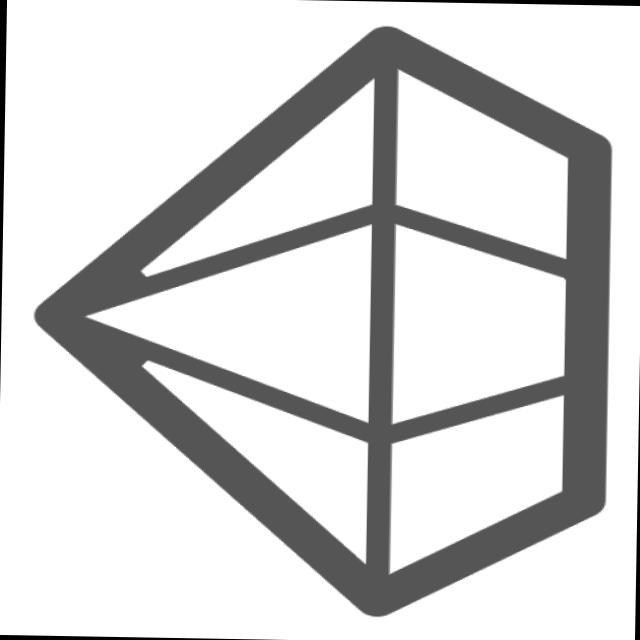diamond: (18, 8, 620, 630)
